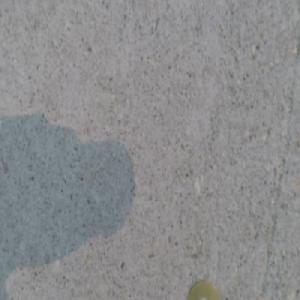Washer: (185, 280, 222, 299)
